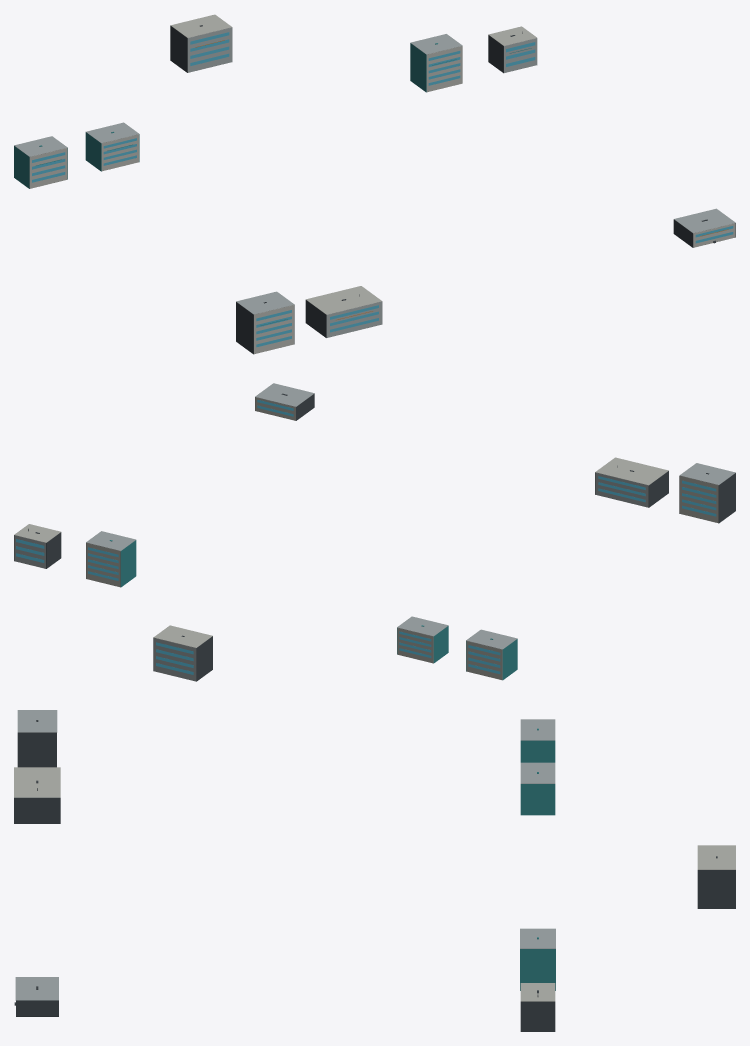
File: starter-coast-district-authored-v1.glb
The picture shows the model from 3 angles, top to bottom: view 1: azimuth 30°, elevation 25°; view 2: azimuth 150°, elevation 25°; view 3: azimuth 270°, elevation 25°; orthographic projection. The views are drawn at different scales.
Parts seen in each view (by area): view 1: Operations block structural shell, Repair factory roof parapet, Harbor control structural shell, League offices structural shell, Repair factory structural shell, Barracks A structural shell, Hardened bunker roof parapet, Barracks B structural shell, Harbor control roof parapet, Operations block roof parapet, Operations block corner pier, Radar utility structural shell (+6 smaller); view 2: Operations block structural shell, Harbor control structural shell, Repair factory roof parapet, League offices structural shell, Repair factory structural shell, Barracks A structural shell, Hardened bunker roof parapet, Barracks B structural shell, Harbor control roof parapet, Operations block roof parapet, Operations block corner pier, Radar utility structural shell (+7 smaller); view 3: Harbor control corner pier.001, Repair factory roof parapet, Operations block corner pier.001, Repair factory corner pier.001, League offices corner pier.001, Barracks B corner pier, Radar utility corner pier.001, Hardened bunker roof parapet, Harbor control roof parapet, Operations block roof parapet, Barracks A corner pier, Barracks A roof parapet (+4 smaller).
Part boxes in pixels (x1,y1,x2,y2): Operations block structural shell: (254, 305, 294, 354); Repair factory roof parapet: (306, 286, 381, 314); Harbor control structural shell: (187, 27, 231, 72); League offices structural shell: (426, 46, 462, 92); Repair factory structural shell: (326, 301, 381, 337); Barracks A structural shell: (29, 148, 67, 188); Hardened bunker roof parapet: (674, 208, 735, 233); Barracks B structural shell: (101, 134, 139, 171); Harbor control roof parapet: (170, 14, 231, 37); Operations block roof parapet: (236, 291, 294, 314); Operations block corner pier: (236, 302, 253, 354); Radar utility structural shell: (504, 38, 537, 72); Operations block structural shell: (679, 476, 718, 523); Harbor control structural shell: (153, 638, 196, 681); Repair factory roof parapet: (595, 457, 668, 485); League offices structural shell: (86, 543, 120, 587); Repair factory structural shell: (595, 472, 648, 507); Barracks A structural shell: (466, 641, 502, 680); Hardened bunker roof parapet: (255, 383, 314, 406); Barracks B structural shell: (397, 628, 433, 663); Harbor control roof parapet: (153, 625, 212, 647); Operations block roof parapet: (680, 463, 735, 485); Operations block corner pier: (718, 473, 735, 523); Radar utility structural shell: (14, 535, 45, 568); Harbor control corner pier.001: (697, 870, 735, 908); Repair factory roof parapet: (14, 767, 60, 797); Operations block corner pier.001: (17, 732, 56, 767); Repair factory corner pier.001: (14, 797, 60, 823); League offices corner pier.001: (520, 949, 555, 990); Barracks B corner pier: (520, 784, 555, 815); Radar utility corner pier.001: (520, 1001, 555, 1031); Hardened bunker roof parapet: (15, 977, 58, 1000); Harbor control roof parapet: (697, 845, 735, 869); Operations block roof parapet: (17, 710, 57, 732); Barracks A corner pier: (520, 740, 555, 762); Barracks A roof parapet: (520, 719, 555, 740).
Bounding box in the file's own units: 1101 × 83.97 × 1212.
